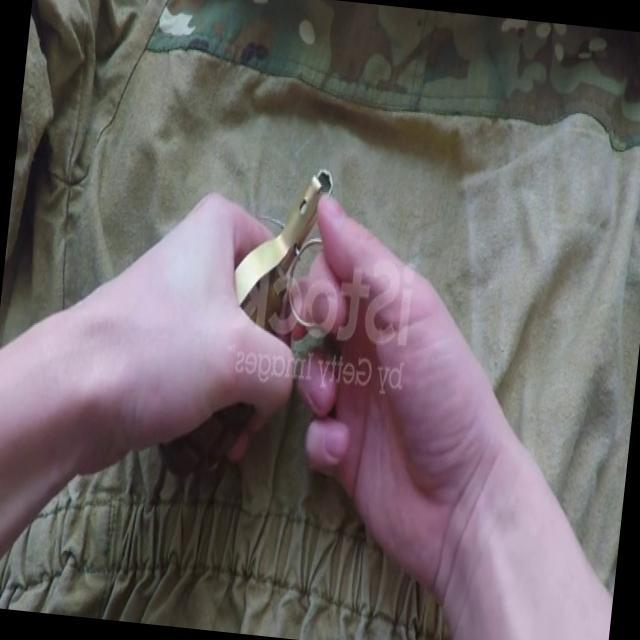grenade: (153, 154, 334, 486)
